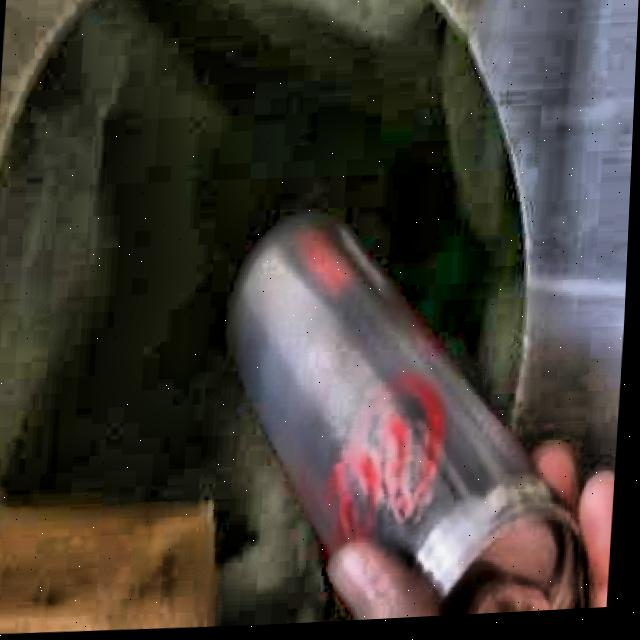metal: (235, 219, 589, 621)
